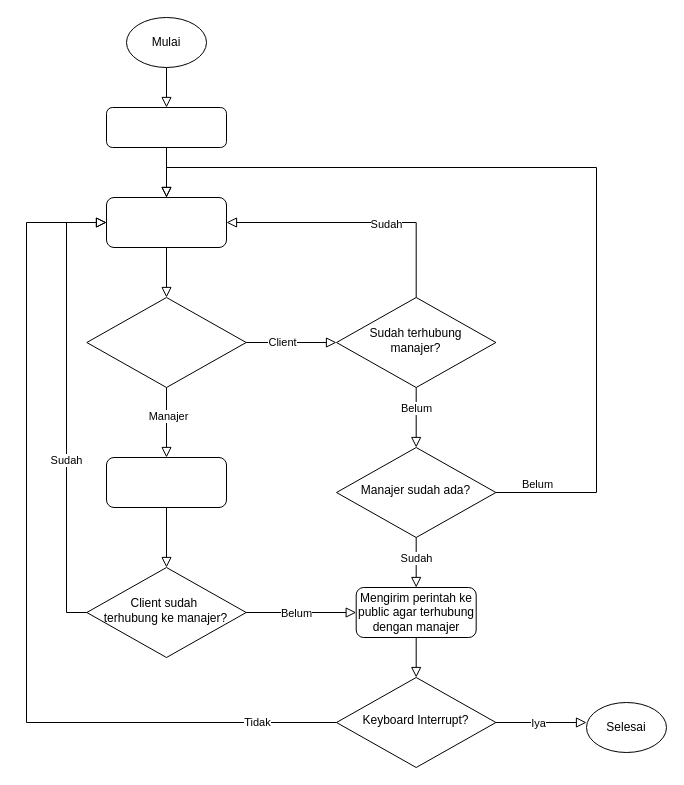
The diagram is 684 pixels wide and 785 high, and some of its shapes have lost their labels. The box of each missing label's shape, as (x1, y1, x2, y2) in pixels:
Menerima koneksi dari manajer atau client: (106, 196, 226, 248)
Mengirim data client terhubung pada manajer: (106, 456, 226, 508)
Menjalankan Tracker: (106, 106, 226, 148)
Request berasal dari client atau manajer?: (86, 296, 246, 388)
